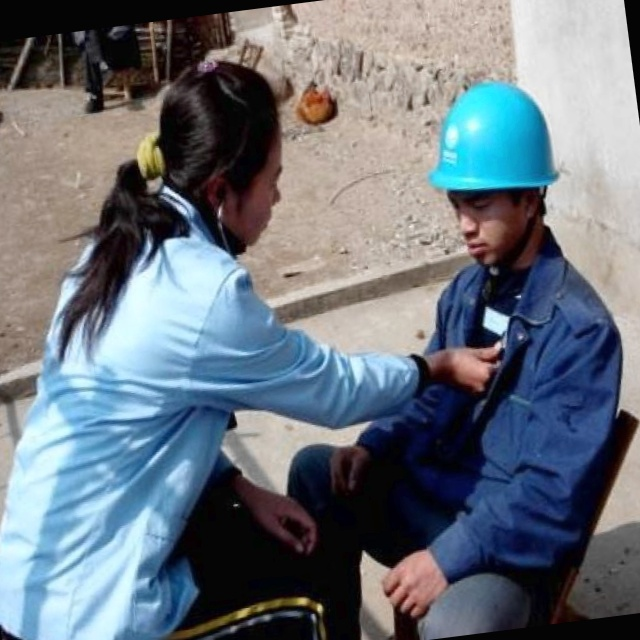Con_Casco: (417, 76, 573, 269)
Sin_Casco_Mascarrilla: (153, 51, 298, 252)
